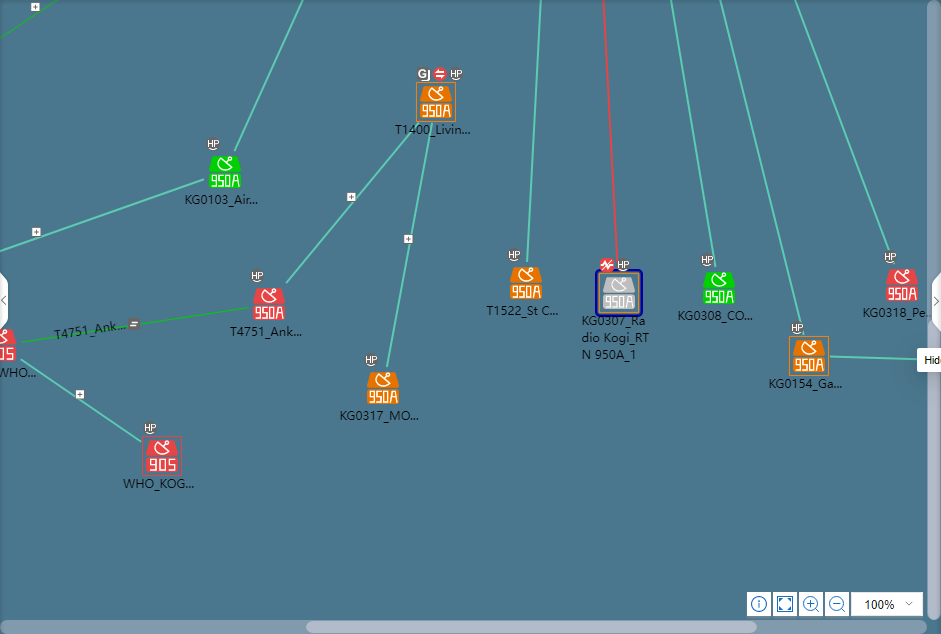Link_Blue: (718, 1, 806, 336), (793, 0, 896, 266), (285, 123, 420, 285), (0, 177, 204, 254), (669, 1, 716, 268), (385, 123, 433, 367), (233, 0, 304, 152), (20, 358, 142, 444), (525, 0, 542, 263), (830, 355, 916, 360)
Link_Green: (20, 306, 249, 344), (0, 0, 58, 39)
Link_Red: (602, 0, 619, 260)
RTN_Gray: (599, 275, 635, 312)
RTN_Green: (209, 156, 240, 188), (702, 273, 733, 304)
RTN_Orange: (418, 85, 453, 120), (792, 340, 825, 373), (510, 267, 541, 299), (367, 373, 398, 404)
RTN_Red: (144, 440, 179, 474), (886, 270, 917, 301), (253, 289, 284, 320), (0, 329, 15, 362)
